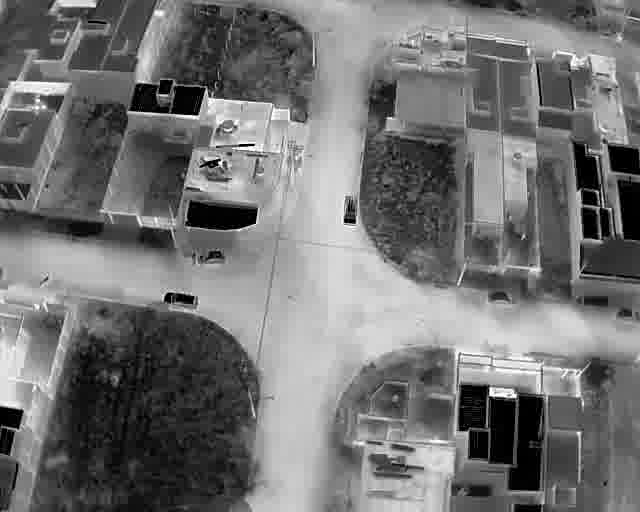car: (163, 291, 199, 311), (192, 248, 228, 265), (342, 193, 359, 226), (485, 291, 519, 306), (615, 307, 640, 322)
motorcycle: (38, 275, 51, 285)
